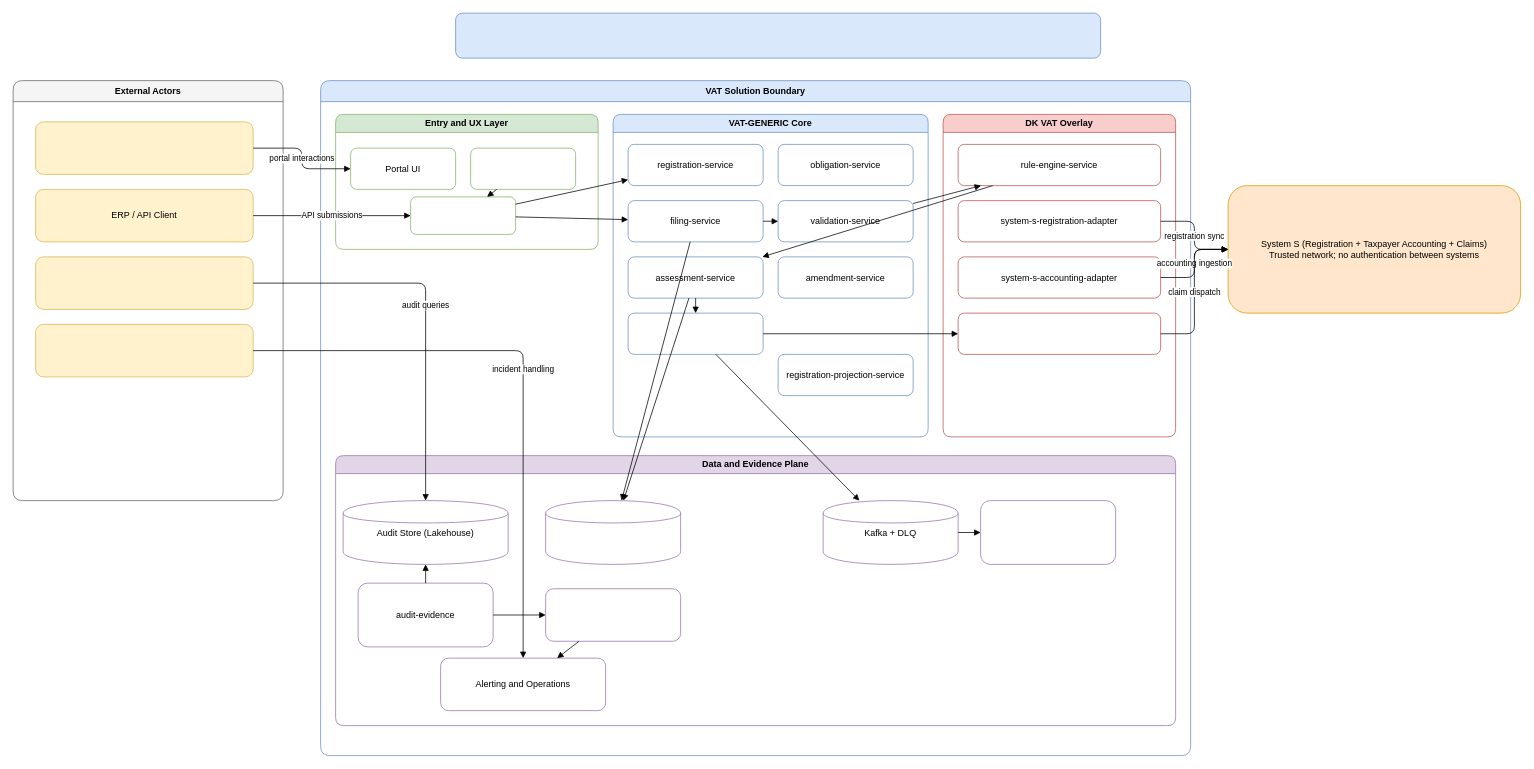
Image size: 1534x769. Some labels were removed from this diagram. Each missing label, with the centre of its shape:
api-gateway: [463,215]
Audit and Reporting Users: [144,282]
claim-orchestrator: [695,333]
OpenTelemetry: [613,614]
Operational DB: [613,532]
Operations Team: [144,350]
portal-bff: [523,168]
Schema Registry: [1048,532]
System Context - VAT Filing and Assessment: [778,35]
system-s-connector: [1059,333]
Taxpayer / Representative: [144,147]
